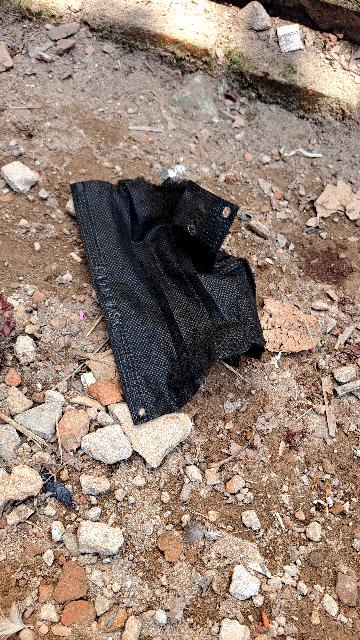mask: (66, 172, 279, 397)
